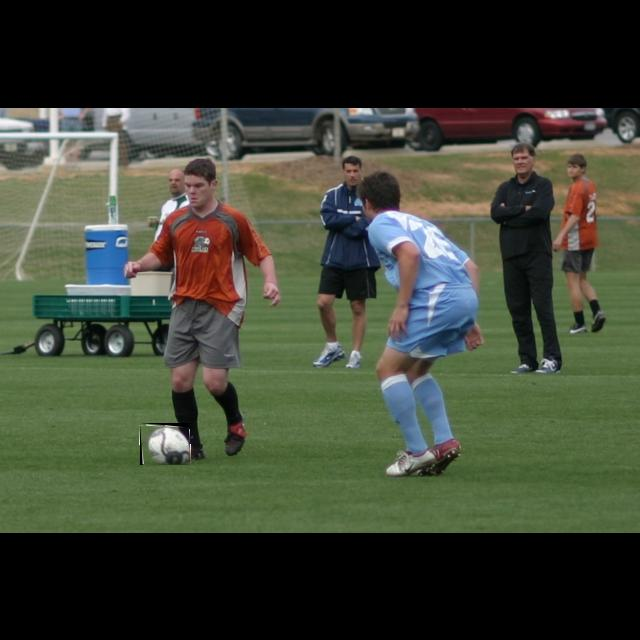Football: (140, 423, 190, 465)
